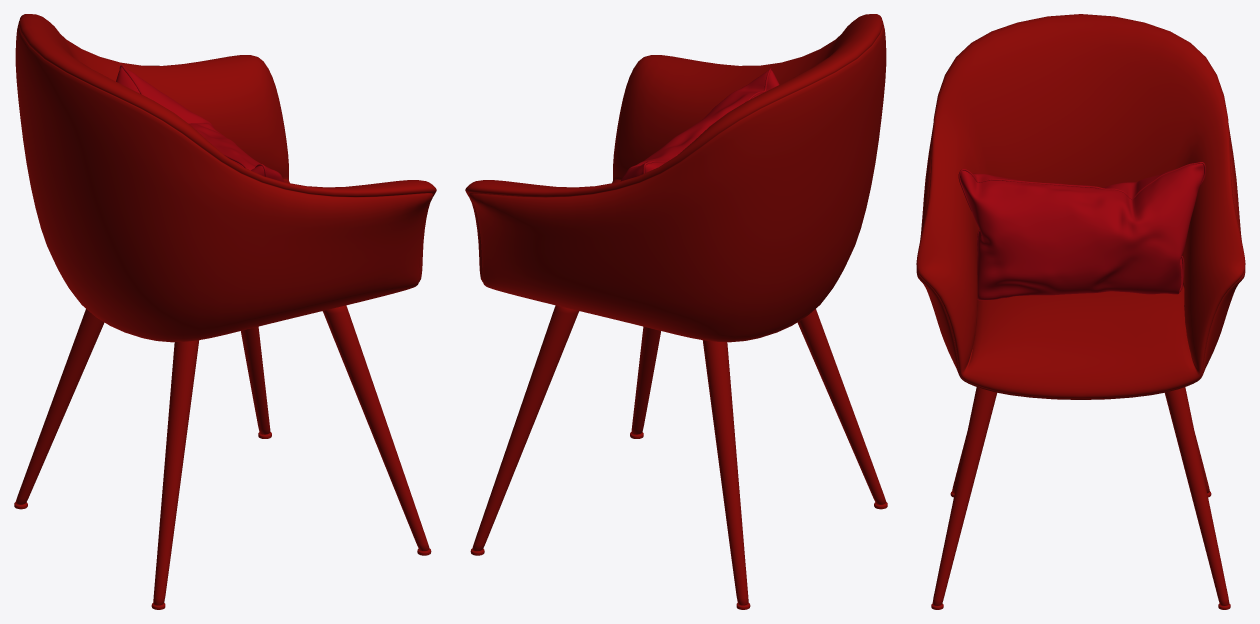
The model's file is Red_Leather_Chair.glb.
The picture shows the model from 3 angles, left to right: view 1: azimuth 30°, elevation 25°; view 2: azimuth 150°, elevation 25°; view 3: azimuth 270°, elevation 25°; orthographic projection. The views are drawn at different scales.
Visible parts, largest first — view 1: koltuk; view 2: koltuk; view 3: koltuk.
Boxes of the visible parts, x1,y1,x2,y2 form: koltuk: [14, 14, 436, 609]; koltuk: [465, 14, 887, 609]; koltuk: [916, 14, 1245, 609].
Size of the model in its own units: 0.7158 by 1.11 by 0.7122.
